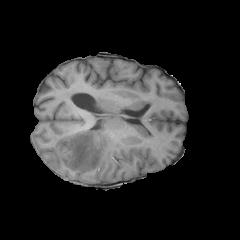glioma: (46, 127, 121, 179)
